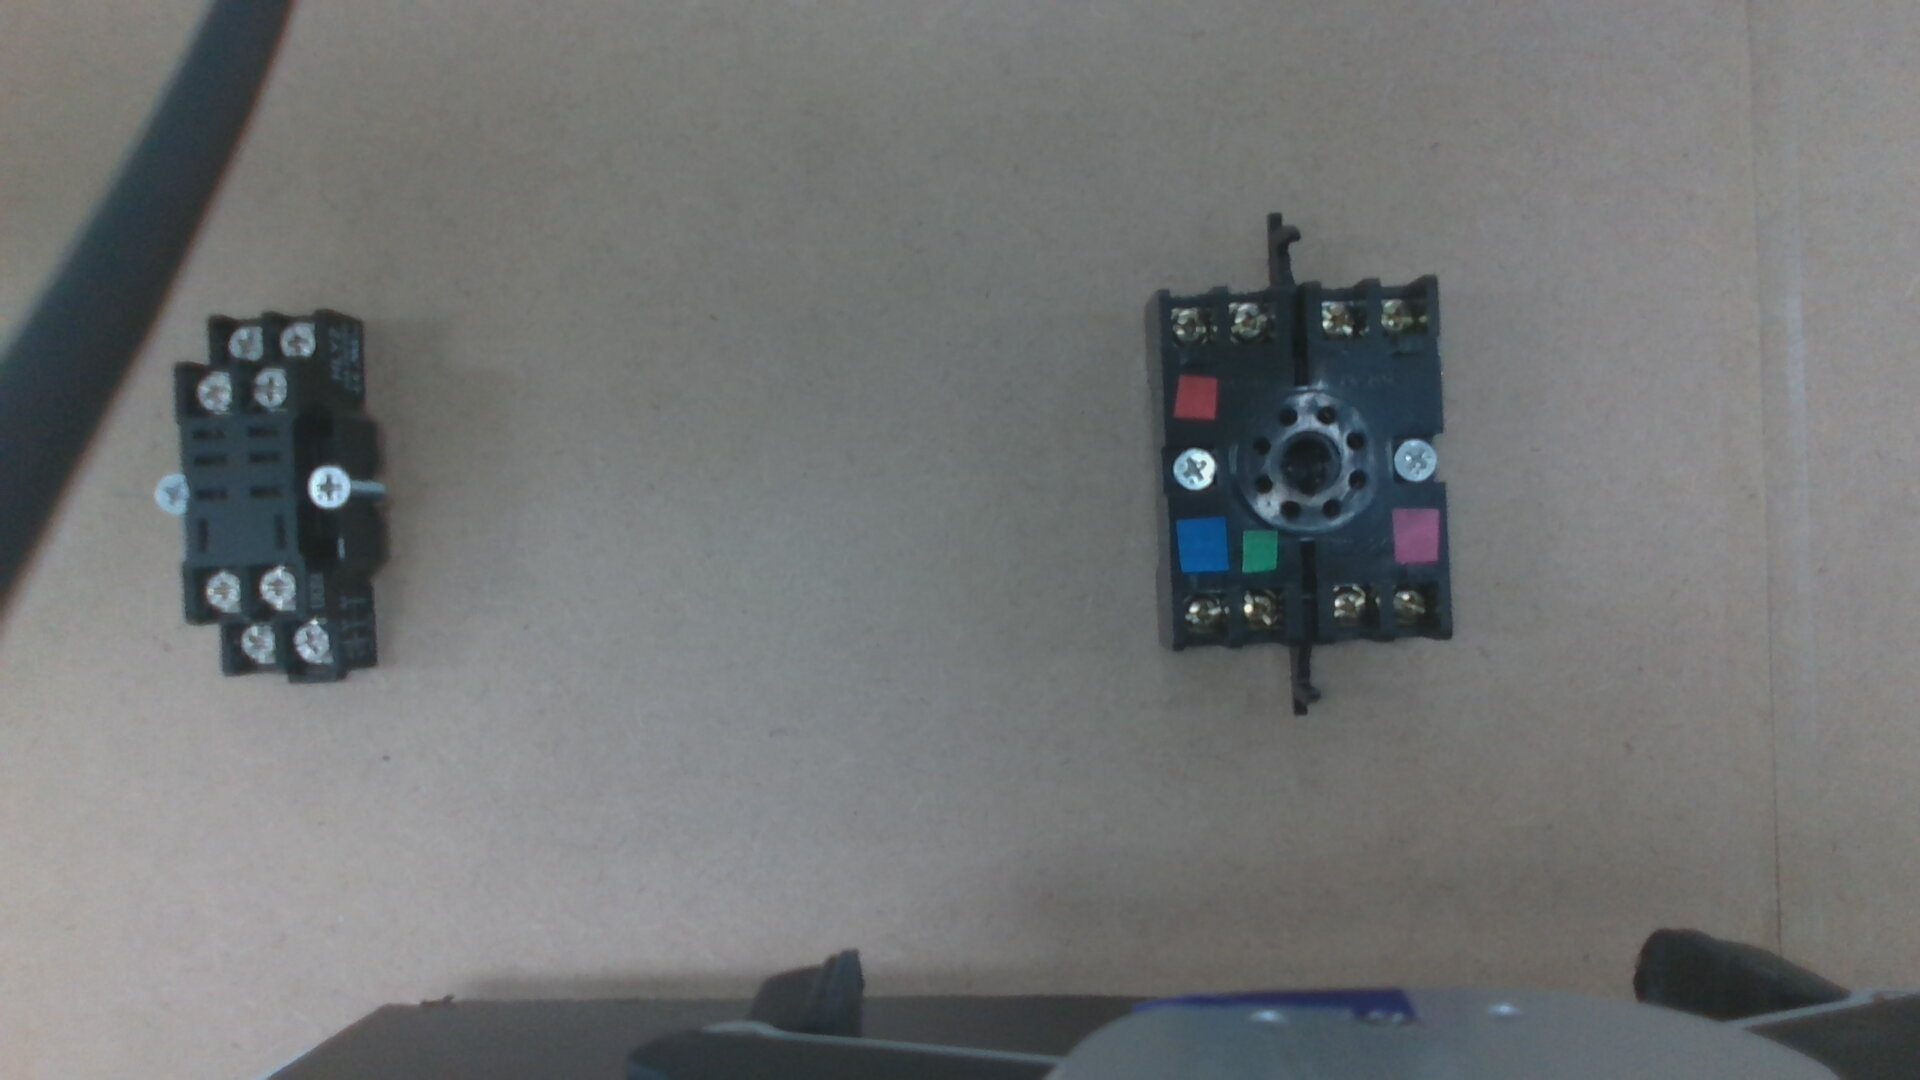timer 2: (1393, 585, 1433, 626)
timer 6: (1170, 306, 1213, 343)
timer 7: (1182, 595, 1222, 634)
timer 8: (1241, 589, 1280, 632)
